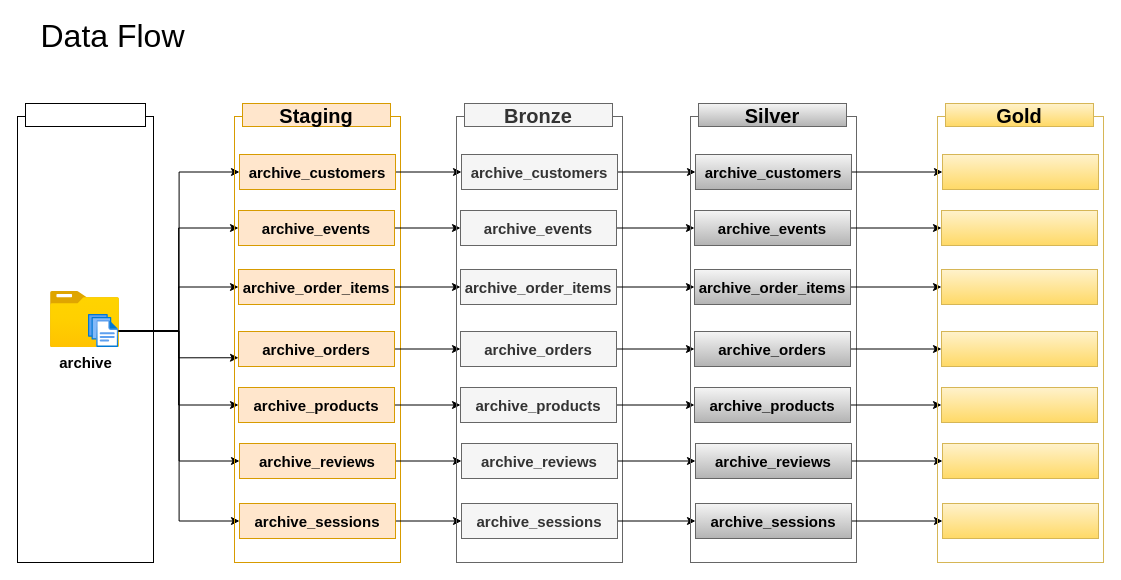
Image size: 1121x580. Some labels were removed from this diagram. The shapes that lost their labels are listed below. From the top down, each one's centre as x and y in pixels, then its label:
At (85,114): "Source".
At (1020,172): "dim_customers".
At (1019,228): "fact_events".
At (1019,286): "fact_order_items".
At (1019,348): "fact_orders".
At (1019,404): "dim_products".
At (1020,460): "fact_reviews".
At (1020,520): "dim_sessions".
